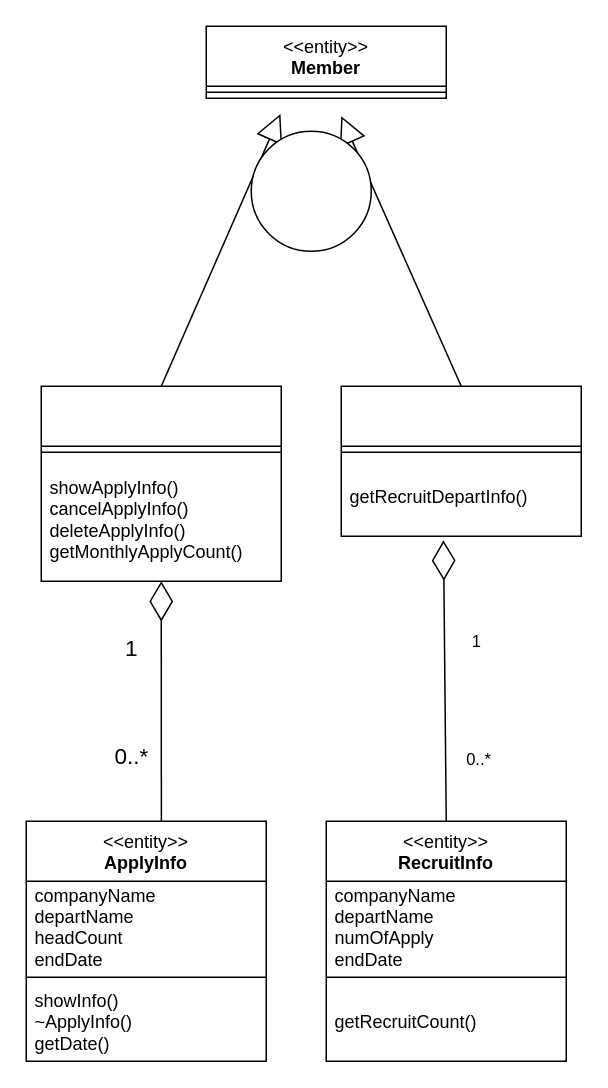
Some shapes in this 608 by 1088 pixel diagram are drawn without their labels. The shapes that lost their labels are listed below. From the top down, each one's box as (x1, y1, x2, y2) in pixels, then its label:
(340, 385, 581, 536): <<entity>> CompMember
(40, 385, 281, 581): <<entity>> GenMember
